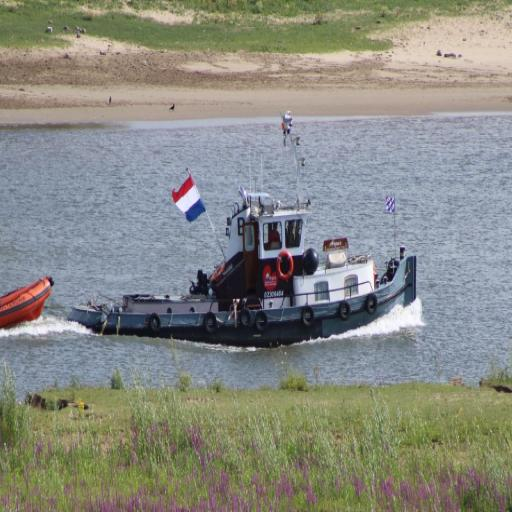tugboat: (65, 108, 423, 363)
